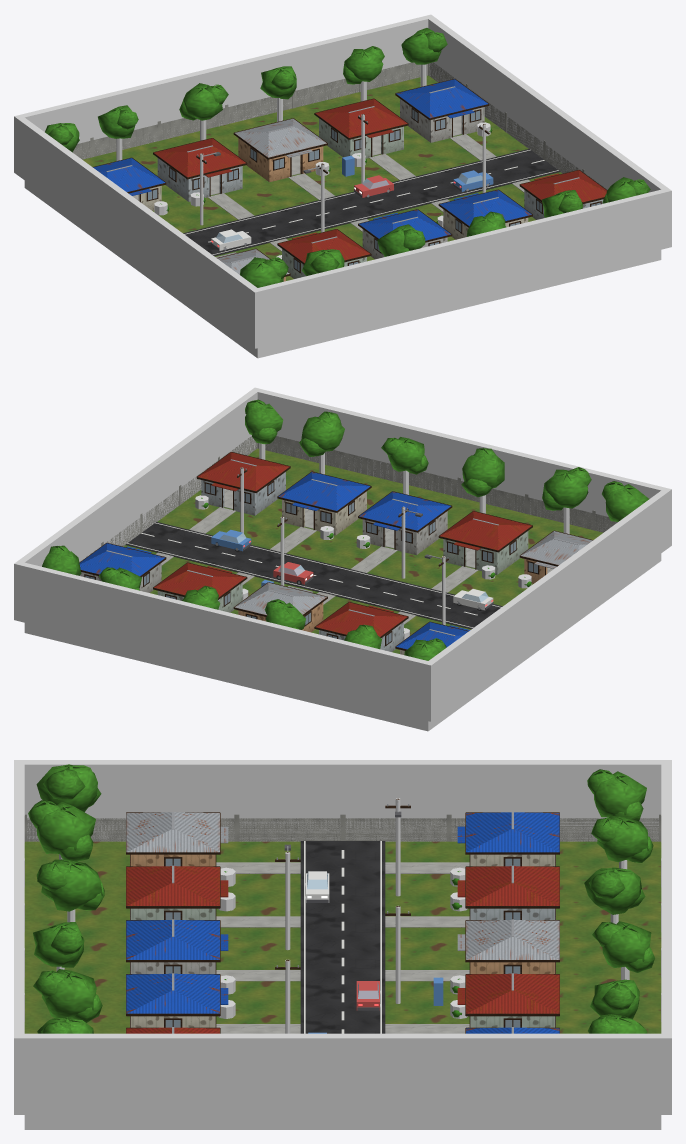
Rendered from compound.glb.
3 renders of one model, top to bottom at view 1: azimuth 30°, elevation 25°; view 2: azimuth 150°, elevation 25°; view 3: azimuth 270°, elevation 25°, orthographic. The views are drawn at different scales.
Parts seen in each view (by area): view 1: Boundary_Col-colonly.001, Ground, Road.001, Perimeter_Fence, Ground_Col-convcolonly.001, House_05_Mesh, House_03_Mesh, House_02_Mesh, House_04_Mesh, Front_Paths, House_09_Mesh, House_10_Mesh (+20 smaller); view 2: Boundary_Col-colonly.001, Ground, Road.001, Perimeter_Fence, Ground_Col-convcolonly.001, House_07_Mesh, House_09_Mesh, House_10_Mesh, House_08_Mesh, House_04_Mesh, House_02_Mesh, Front_Paths (+20 smaller); view 3: Boundary_Col-colonly.001, Ground, Road.001, Ground_Col-convcolonly.001, Perimeter_Fence, Front_Paths, House_01_Mesh, House_06_Mesh, House_02_Mesh, House_07_Mesh, House_04_Mesh, House_09_Mesh (+22 smaller).
Part boxes in pixels (x1,y1,x2,y2): Boundary_Col-colonly.001: [14, 14, 671, 348]; Ground: [82, 75, 561, 280]; Road.001: [183, 149, 560, 256]; Perimeter_Fence: [72, 62, 607, 189]; Ground_Col-convcolonly.001: [24, 181, 661, 358]; House_05_Mesh: [395, 79, 489, 142]; House_03_Mesh: [233, 118, 327, 182]; House_02_Mesh: [153, 138, 247, 201]; House_04_Mesh: [314, 98, 408, 158]; Front_Paths: [207, 134, 530, 251]; House_09_Mesh: [438, 189, 532, 239]; House_10_Mesh: [519, 169, 607, 219]; Boundary_Col-colonly.001: [14, 387, 671, 721]; Ground: [124, 448, 603, 653]; Road.001: [125, 522, 502, 629]; Perimeter_Fence: [79, 436, 617, 562]; Ground_Col-convcolonly.001: [24, 554, 661, 731]; House_07_Mesh: [438, 511, 532, 574]; House_09_Mesh: [277, 471, 371, 535]; House_10_Mesh: [196, 452, 290, 515]; House_08_Mesh: [358, 491, 452, 555]; House_04_Mesh: [153, 562, 247, 612]; House_02_Mesh: [314, 602, 408, 651]; Front_Paths: [155, 507, 478, 624]; Boundary_Col-colonly.001: [14, 760, 671, 1114]; Ground: [24, 841, 661, 1033]; Road.001: [300, 841, 385, 1033]; Ground_Col-convcolonly.001: [24, 1115, 661, 1129]; Perimeter_Fence: [24, 814, 661, 1021]; Front_Paths: [216, 862, 469, 1033]; House_01_Mesh: [457, 812, 559, 866]; House_06_Mesh: [126, 812, 228, 866]; House_02_Mesh: [457, 865, 559, 919]; House_07_Mesh: [126, 865, 228, 919]; House_04_Mesh: [457, 973, 559, 1027]; House_09_Mesh: [126, 973, 228, 1027].
Size of what is drawn, in the model's own units: 31 by 6 by 31.
54 materials, 34 textured.
